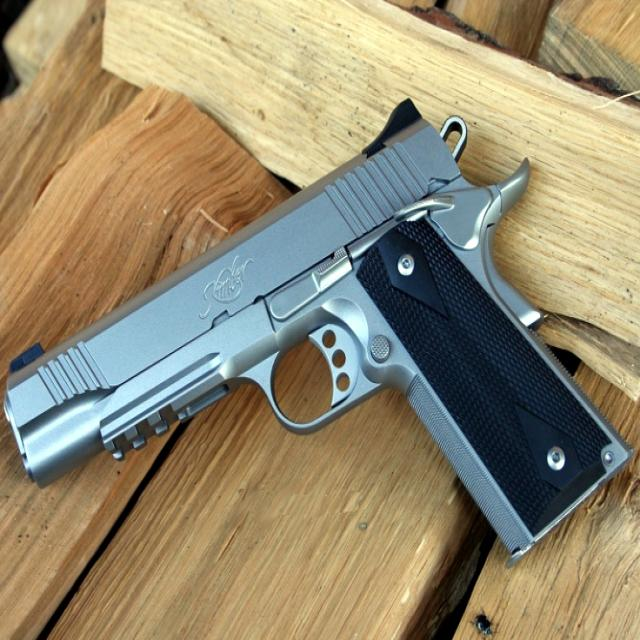HandGun: (0, 84, 640, 593)
